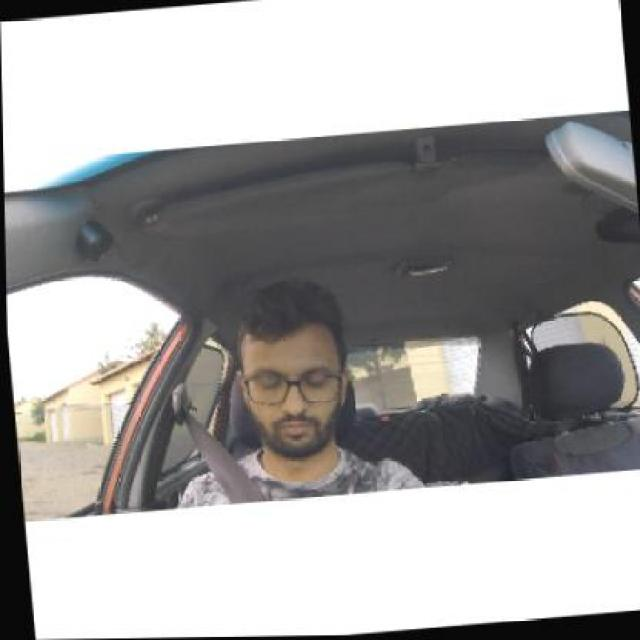drowsy: (230, 284, 356, 460)
